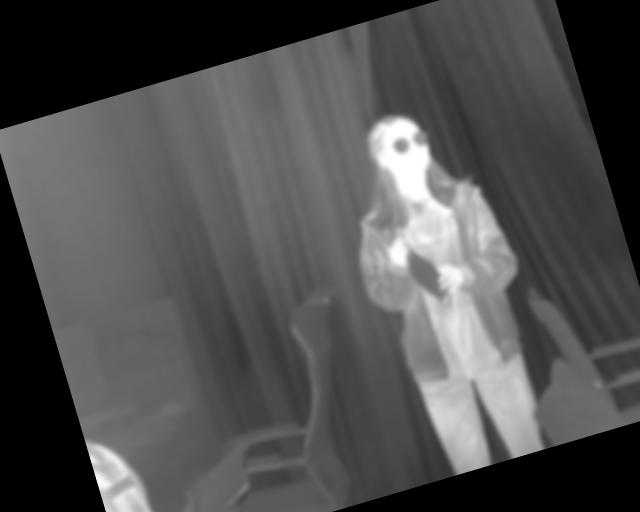face: (361, 106, 438, 186)
